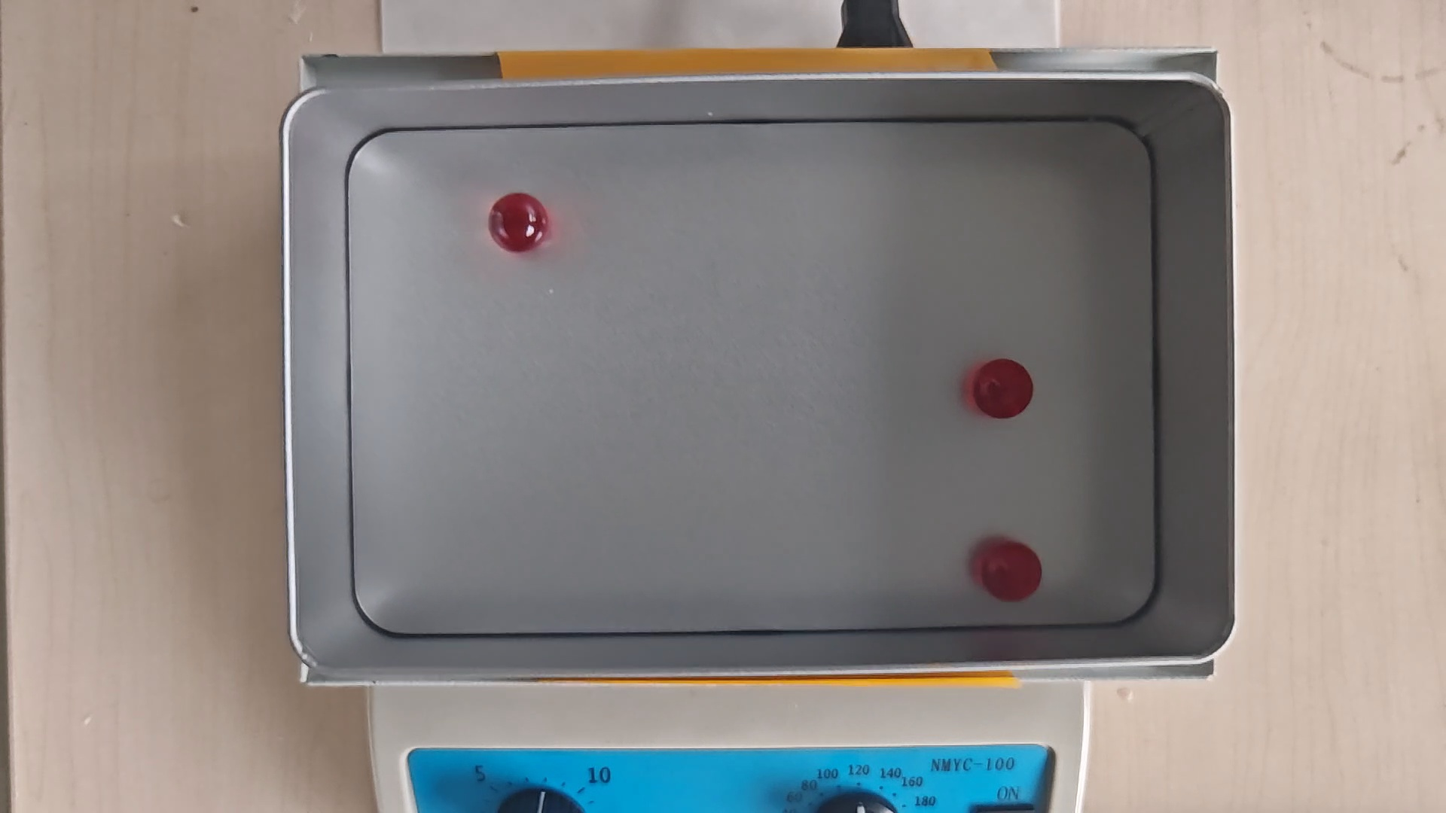ball: (487, 190, 549, 252), (974, 356, 1033, 419), (980, 543, 1043, 601)
container: (349, 122, 1159, 626)
